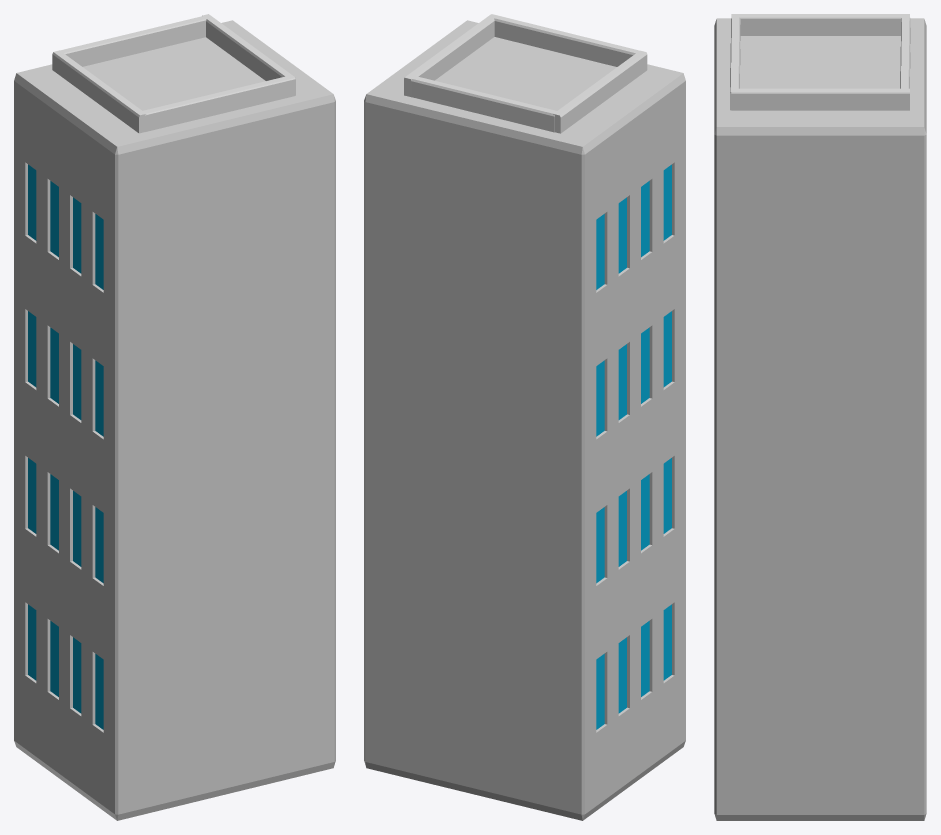
Rendered from buildingEIP0.fbx.
3 views of the same model, side by side, from view 1: azimuth 30°, elevation 25°; view 2: azimuth 150°, elevation 25°; view 3: azimuth 270°, elevation 25° (orthographic). The views are drawn at different scales.
Visible parts, largest first — view 1: Cube, Cube.003, Cube.004, Cube.001, Cube.002; view 2: Cube, Cube.004, Cube.003, Cube.001, Cube.002; view 3: Cube, Cube.002, Cube.001, Cube.003, Cube.004.
Part boxes in pixels (bbox=[...]): Cube: bbox=[14, 20, 335, 820]; Cube.003: bbox=[143, 75, 295, 131]; Cube.004: bbox=[60, 14, 212, 66]; Cube.001: bbox=[52, 50, 146, 133]; Cube.002: bbox=[202, 14, 295, 94]; Cube: bbox=[364, 20, 685, 820]; Cube.004: bbox=[405, 74, 556, 132]; Cube.003: bbox=[488, 14, 639, 66]; Cube.001: bbox=[553, 50, 647, 133]; Cube.002: bbox=[404, 14, 494, 97]; Cube: bbox=[714, 18, 926, 820]; Cube.002: bbox=[731, 88, 909, 110]; Cube.001: bbox=[731, 14, 909, 35]; Cube.003: bbox=[730, 17, 740, 110]; Cube.004: bbox=[900, 17, 910, 91].
Size of the model in its own units: 141 by 424 by 114.
